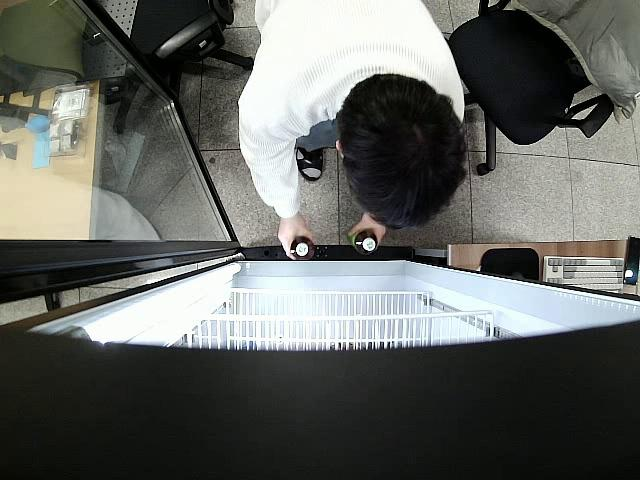00_hand: (277, 218, 315, 262), (347, 215, 385, 246)
19_17cha: (347, 224, 379, 255), (289, 237, 315, 260)
